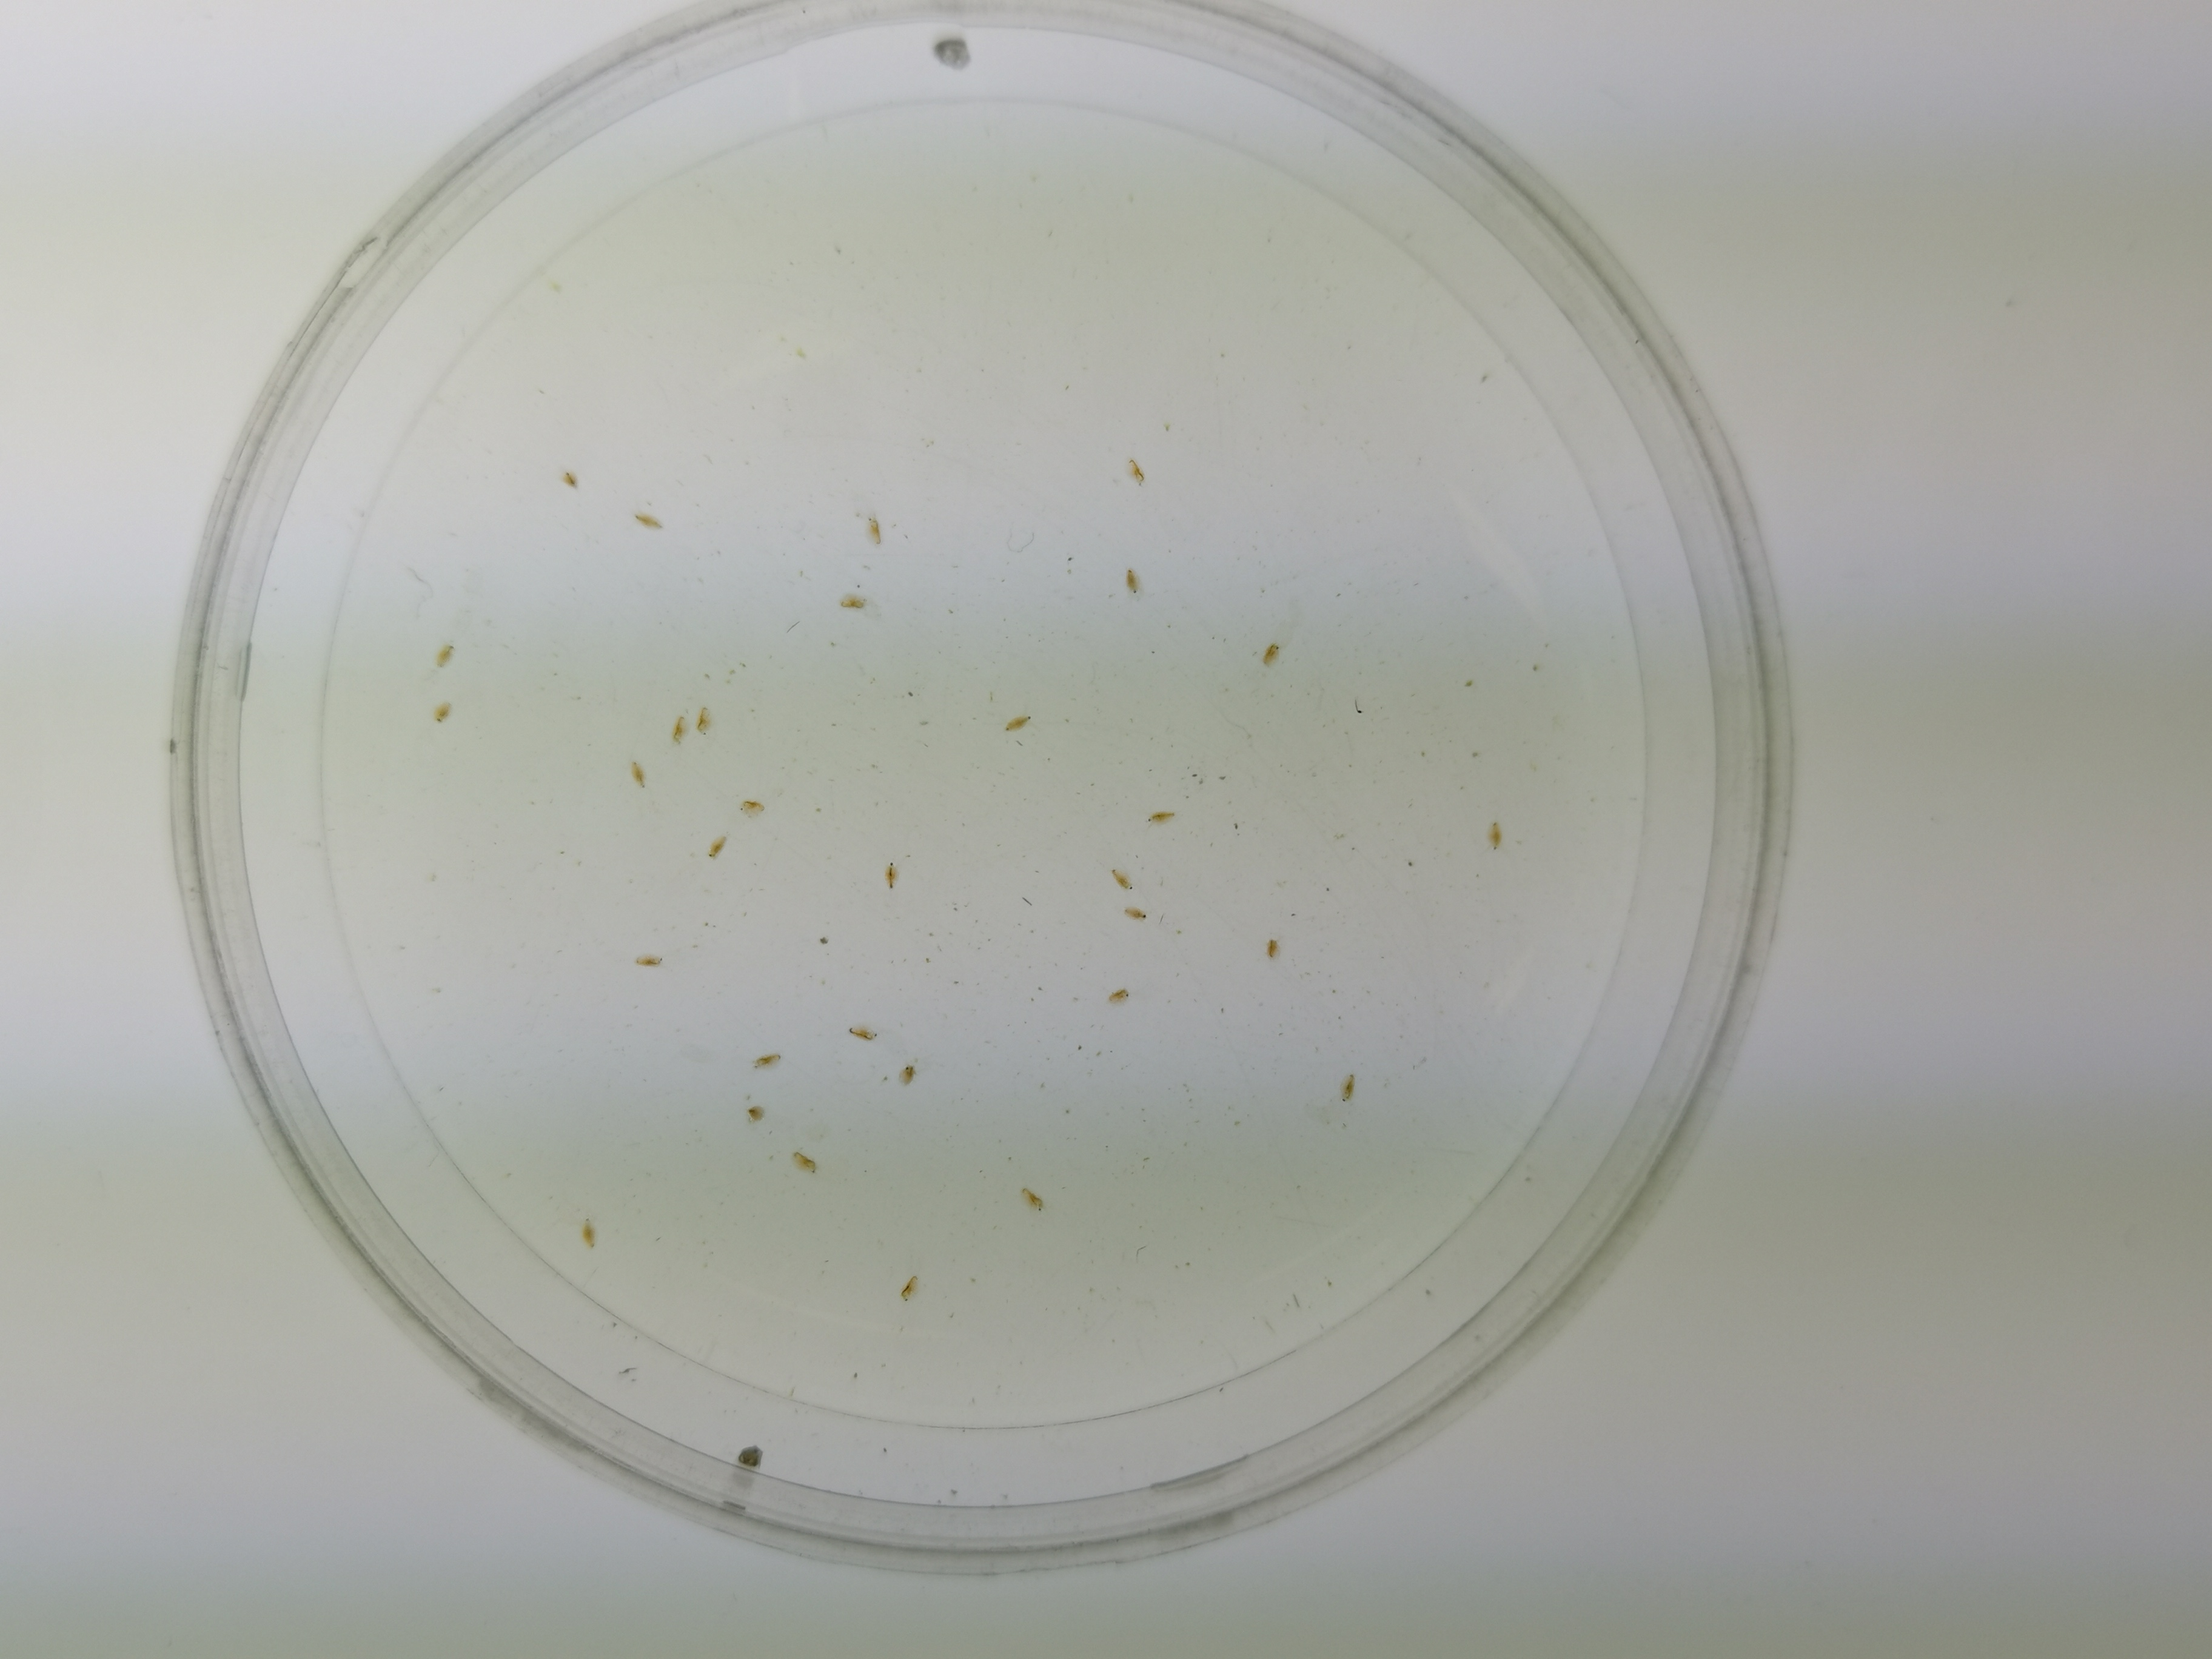D.magna: (1125, 455, 1150, 490), (862, 512, 885, 547), (1486, 817, 1507, 854), (1021, 1187, 1049, 1213), (1125, 565, 1146, 599), (669, 713, 690, 746), (632, 512, 665, 533), (1338, 1072, 1359, 1103), (629, 758, 650, 789), (895, 1061, 921, 1086), (1003, 711, 1031, 734), (846, 1023, 878, 1042), (792, 1150, 819, 1173), (1261, 640, 1282, 667), (582, 1215, 599, 1248), (1111, 866, 1136, 889), (707, 835, 730, 859), (1146, 810, 1174, 829), (900, 1274, 920, 1302), (885, 861, 902, 890), (840, 592, 869, 610), (1264, 934, 1285, 958), (738, 798, 765, 817), (632, 951, 664, 967), (697, 708, 714, 735), (437, 643, 456, 667), (752, 1053, 782, 1068), (1123, 904, 1146, 924), (434, 702, 453, 723), (561, 469, 580, 490), (1108, 988, 1129, 1006), (747, 1103, 765, 1119)
